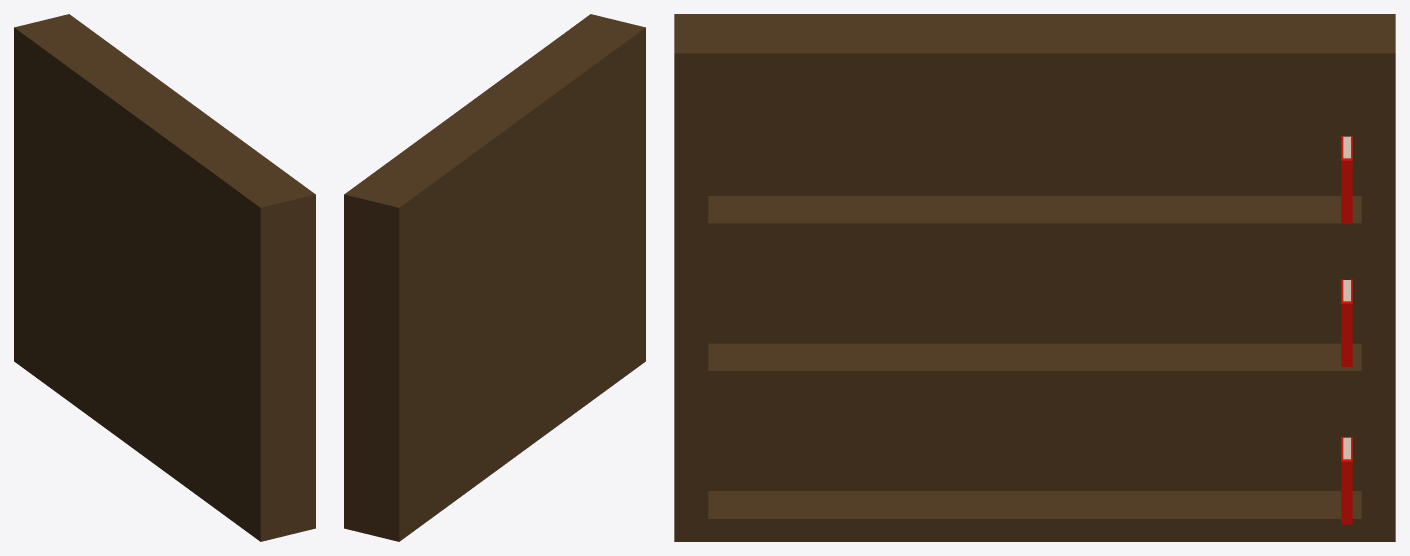
Rendered from Shelf.glb.
3 renders of one model, left to right at view 1: azimuth 30°, elevation 25°; view 2: azimuth 150°, elevation 25°; view 3: azimuth 270°, elevation 25°, orthographic. The views are drawn at different scales.
Parts seen in each view (by area): view 1: Cube.001; view 2: Cube.001; view 3: Cube.001, Cube.002, Cube.004, Cube.003.
Boxes of the visible parts, bbox=[...] form: Cube.001: bbox=[14, 14, 315, 541]; Cube.001: bbox=[344, 14, 645, 541]; Cube.001: bbox=[674, 14, 1395, 541]; Cube.002: bbox=[1341, 136, 1352, 223]; Cube.004: bbox=[1341, 437, 1352, 524]; Cube.003: bbox=[1341, 279, 1352, 366].
Bounding box in the file's own units: 0.6882 × 3.71 × 4.96.
